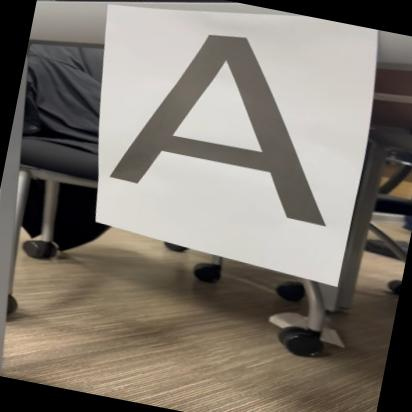seat: (92, 11, 364, 232)
